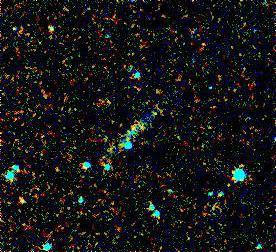star: (7, 184, 37, 214)
